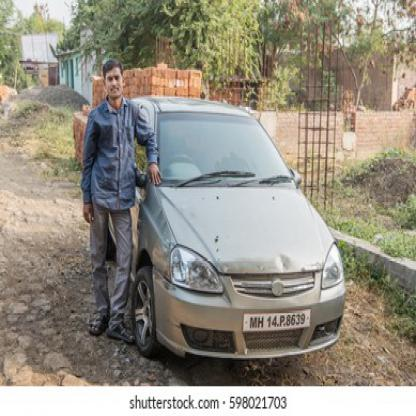car: (128, 96, 344, 368)
